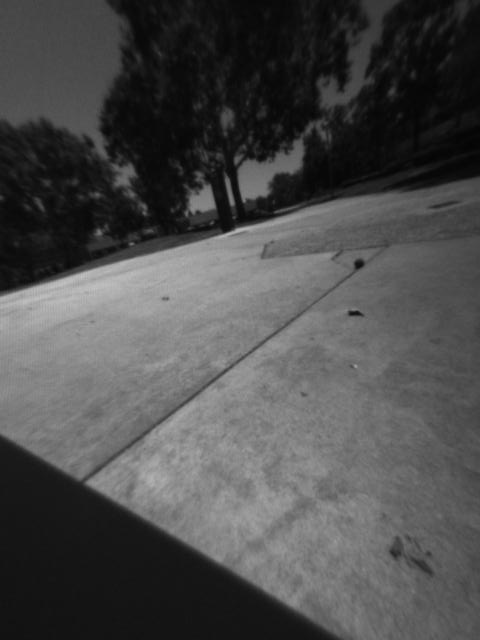dogtoy: (343, 246, 379, 275)
